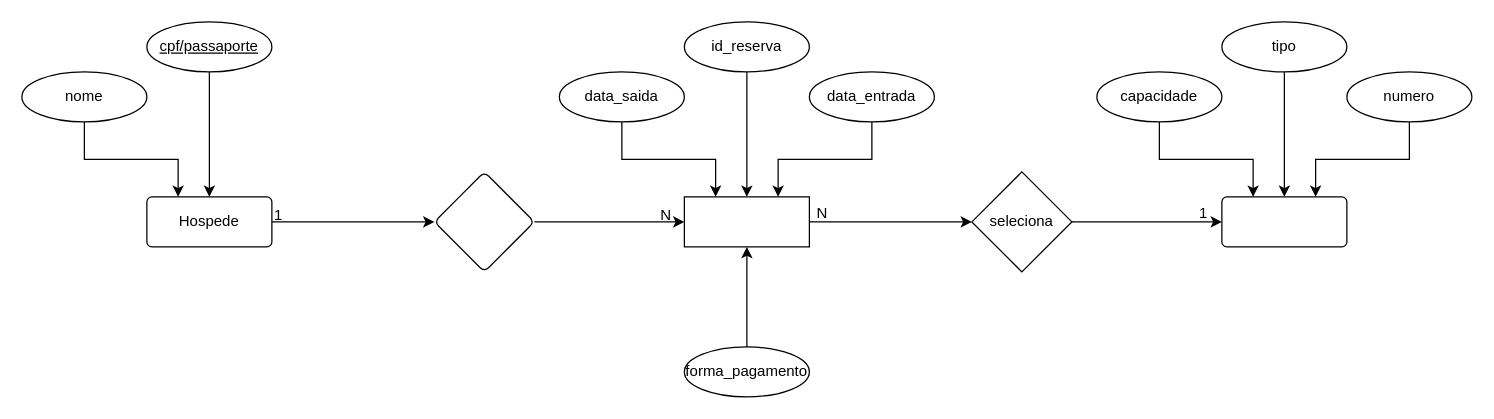
This 1494x419 diagram has some shape labels left out. Here are the shapes that lost their labels. From the top down, the centre of each, then its label:
the point at 483,221: faz
the point at 746,221: Reserva
the point at 1284,221: Quarto
